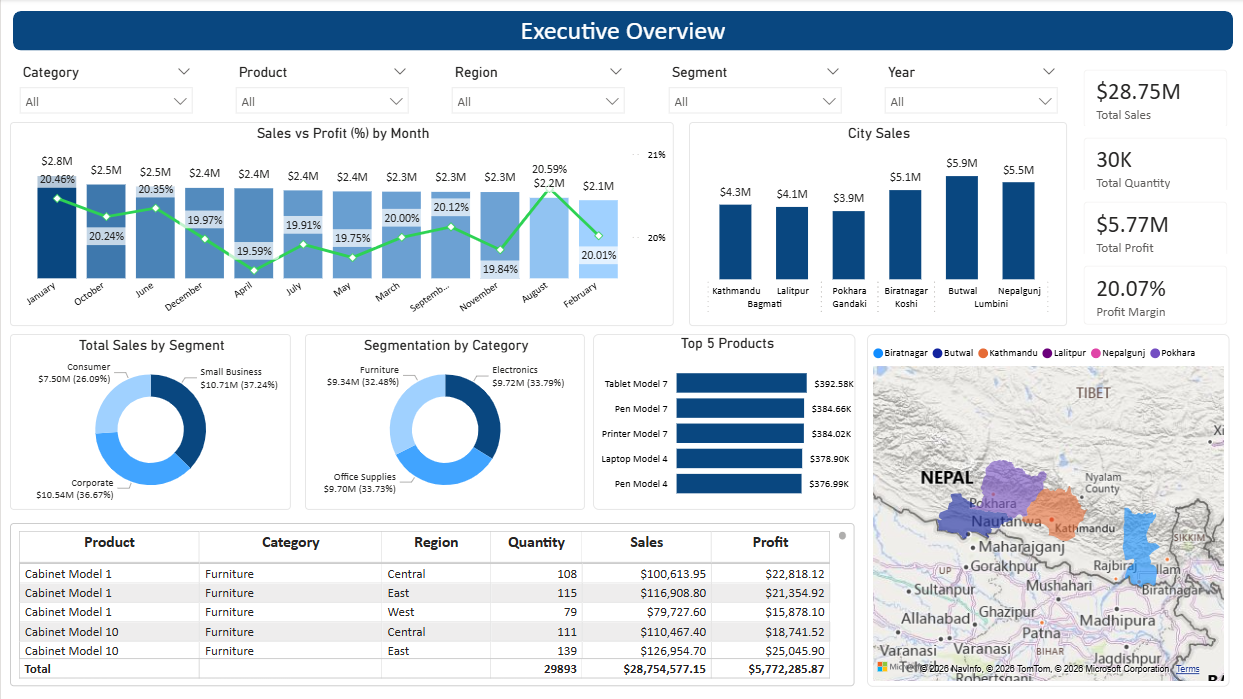

The page's visual inventory and layout, read from the dashboard file:
{"tool":"powerbi","page":{"name":"Executive Overview","canvas":[1280,720],"ordinal":0},"visuals":[{"type":"shape","box":[8.8,8.8,1261.5,46.7],"z":0},{"type":"cardVisual","title":"Total","fields":{"Data":["Measure Calculation.Total Sales"]},"box":[1097,55.7,183,94.5],"z":1000},{"type":"cardVisual","title":"Total","fields":{"Data":["Measure Calculation.Total Quantity"]},"box":[1097,125.3,183,94.5],"z":2000},{"type":"cardVisual","title":"Total","fields":{"Data":["Measure Calculation.Total Profit"]},"box":[1097,191,183,95.5],"z":3000},{"type":"cardVisual","title":"Total","fields":{"Data":["Measure Calculation.Profit Margin"]},"box":[1097,257.6,183,95.5],"z":4000},{"type":"slicer","fields":{"Values":["sales_gold.Category"]},"box":[9,62.7,197.9,62.7],"z":5000},{"type":"slicer","fields":{"Values":["sales_gold.ProductName"]},"box":[231.5,62.7,197.9,62.7],"z":6000},{"type":"slicer","fields":{"Values":["sales_gold.Region"]},"box":[454,62.7,197.9,62.7],"z":7000},{"type":"slicer","fields":{"Values":["sales_gold.Segment"]},"box":[676.6,62.7,197.9,62.7],"z":8000},{"type":"slicer","fields":{"Values":["sales_gold.Year"]},"box":[899.1,62.7,197.9,62.7],"z":9000},{"type":"donutChart","title":"Segmentation by Category","fields":{"Category":["sales_gold.Category"],"Y":["Measure Calculation.Total Sales"]},"box":[312.3,345.1,288.4,181],"z":10000},{"type":"donutChart","fields":{"Category":["sales_gold.Segment"],"Y":["Measure Calculation.Total Sales"]},"box":[9,345.1,289.4,181],"z":11000},{"type":"columnChart","title":"City Sales","fields":{"Category":["sales_gold.CustomerState","sales_gold.CustomerCity"],"Y":["Measure Calculation.Total Sales"]},"box":[708.1,126.3,388.9,209.9],"z":12000},{"type":"lineStackedColumnComboChart","title":"Sales vs Profit (%) by Month","fields":{"Category":["Date_Dimension.MonthName"],"Y":["Measure Calculation.Total Sales"],"Y2":["Measure Calculation.Profit Margin"]},"box":[9,126.3,683.3,209.9],"z":13000},{"type":"clusteredBarChart","title":"Top 5 Products","fields":{"Category":["sales_gold.ProductName"],"Y":["Measure Calculation.Total Sales"]},"box":[608.7,345.1,269.5,181],"z":14000},{"type":"tableEx","fields":{"Values":["sales_gold.ProductName","sales_gold.Category","sales_gold.Region","Sum(sales_gold.Quantity)","Measure Calculation.Total Sales","Measure Calculation.Total Profit"]},"box":[9,539.1,869.2,168.1],"z":15000},{"type":"filledMap","fields":{"Category":["sales_gold.CustomerState"],"Series":["sales_gold.CustomerCity"]},"box":[891,344.8,373.4,362.7],"z":16000}]}

Visuals, with their boxes in screenshot pixels (x1, y1, x2, y2), scaled from the page's 1280x720 canvas onto the 1243x699 screenshot:
shape: (9,9,1234,54)
"Total" cardVisual: (1065,54,1242,146)
"Total" cardVisual: (1065,122,1242,213)
"Total" cardVisual: (1065,185,1242,278)
"Total" cardVisual: (1065,250,1242,343)
slicer - sales_gold.Category: (9,61,201,122)
slicer - sales_gold.ProductName: (225,61,417,122)
slicer - sales_gold.Region: (441,61,633,122)
slicer - sales_gold.Segment: (657,61,849,122)
slicer - sales_gold.Year: (873,61,1065,122)
"Segmentation by Category" donutChart: (303,335,583,511)
donutChart - sales_gold.Segment x Measure Calculation.Total Sales: (9,335,290,511)
"City Sales" columnChart: (688,123,1065,326)
"Sales vs Profit (%) by Month" lineStackedColumnComboChart: (9,123,672,326)
"Top 5 Products" clusteredBarChart: (591,335,853,511)
tableEx - sales_gold.ProductName x sales_gold.Category: (9,523,853,687)
filledMap - sales_gold.CustomerState x sales_gold.CustomerCity: (865,335,1228,687)
